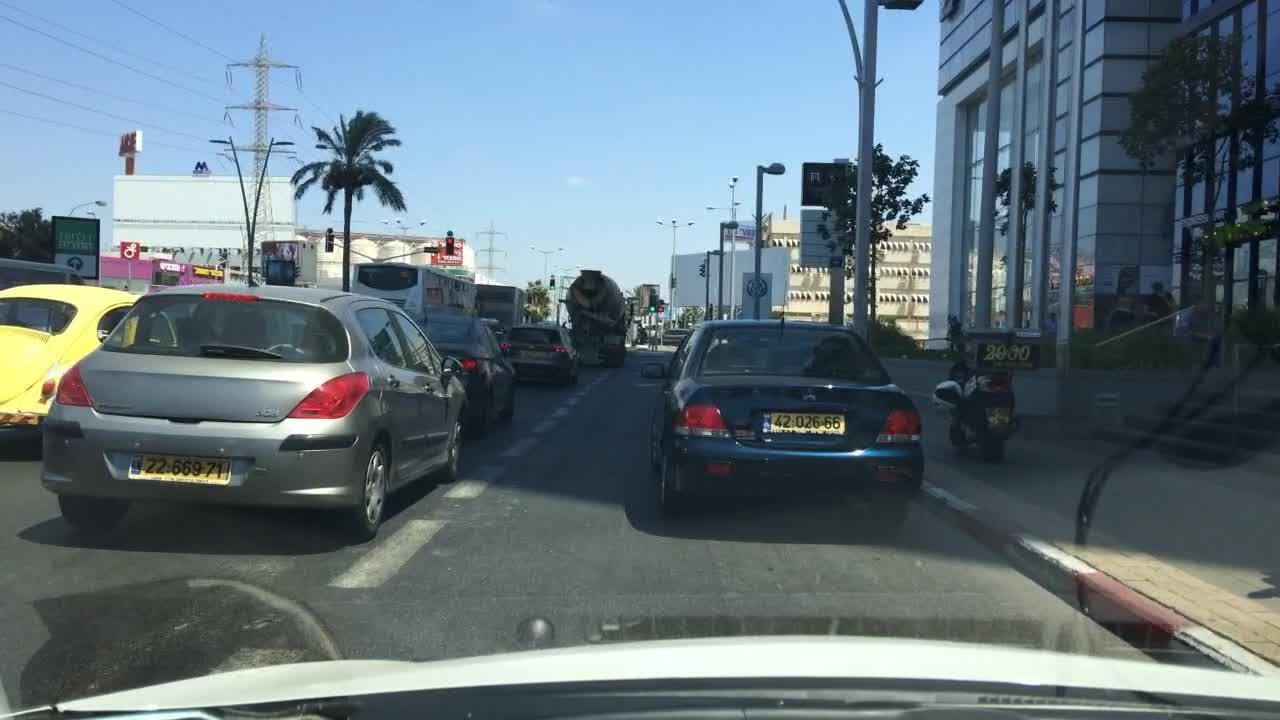Mitsubishi: (798, 381, 823, 407)
